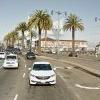Car: (25, 56, 58, 92)
